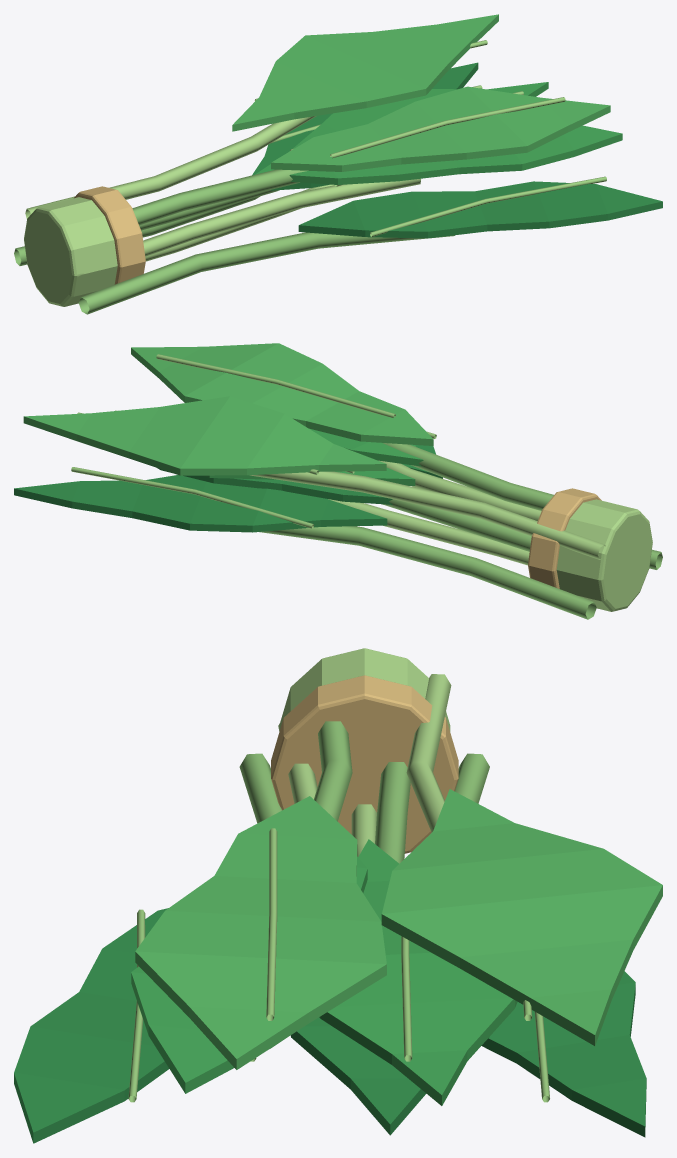
Rendered from spinach.glb.
3 views of the same model, one above another, from view 1: azimuth 30°, elevation 25°; view 2: azimuth 150°, elevation 25°; view 3: azimuth 270°, elevation 25° (orthographic). The views are drawn at different scales.
Parts seen in each view (by area): view 1: spinach_leaf_5, spinach_leaf_2, spinach_leaf_0, stem_bundle, spinach_leaf_1, spinach_stem_0, spinach_stem_1, spinach_stem_5, spinach_stem_2, bundle_tie, spinach_leaf_4, spinach_leaf_6 (+5 smaller); view 2: spinach_leaf_5, spinach_leaf_2, spinach_leaf_6, stem_bundle, spinach_stem_6, spinach_stem_5, spinach_stem_2, bundle_tie, spinach_stem_3, spinach_stem_4, spinach_leaf_3, spinach_stem_1 (+4 smaller); view 3: spinach_leaf_5, spinach_leaf_2, spinach_leaf_0, spinach_leaf_4, bundle_tie, spinach_leaf_6, spinach_leaf_3, spinach_leaf_1, stem_bundle, spinach_stem_5, spinach_stem_4, spinach_stem_2 (+8 smaller).
Part boxes in pixels (<box>): spinach_leaf_5: <box>232,14,498,131</box>; spinach_leaf_2: <box>271,86,610,171</box>; spinach_leaf_0: <box>298,181,662,238</box>; stem_bundle: <box>24,197,117,306</box>; spinach_leaf_1: <box>289,125,622,184</box>; spinach_stem_0: <box>78,232,454,314</box>; spinach_stem_1: <box>77,178,420,277</box>; spinach_stem_5: <box>25,116,316,218</box>; spinach_stem_2: <box>132,169,308,225</box>; bundle_tie: <box>74,186,145,284</box>; spinach_leaf_4: <box>255,82,548,174</box>; spinach_leaf_6: <box>252,62,478,175</box>; spinach_leaf_5: <box>23,396,386,475</box>; spinach_leaf_2: <box>131,343,433,445</box>; spinach_leaf_6: <box>14,475,387,532</box>; stem_bundle: <box>556,499,652,611</box>; spinach_stem_6: <box>259,526,596,619</box>; spinach_stem_5: <box>250,471,605,559</box>; spinach_stem_2: <box>383,443,553,510</box>; bundle_tie: <box>528,488,601,588</box>; spinach_stem_3: <box>328,499,529,565</box>; spinach_stem_4: <box>382,499,531,551</box>; spinach_leaf_3: <box>157,468,392,504</box>; spinach_stem_1: <box>378,460,541,520</box>; spinach_leaf_5: <box>381,789,662,1045</box>; spinach_leaf_2: <box>135,796,386,1069</box>; spinach_leaf_0: <box>14,908,169,1143</box>; spinach_leaf_4: <box>319,839,517,1105</box>; bundle_tie: <box>271,675,458,853</box>; spinach_leaf_6: <box>481,971,646,1137</box>; spinach_leaf_3: <box>290,1017,489,1135</box>; spinach_leaf_1: <box>131,856,367,1093</box>; stem_bundle: <box>279,648,450,731</box>; spinach_stem_5: <box>406,674,451,832</box>; spinach_stem_4: <box>375,762,410,863</box>; spinach_stem_2: <box>314,721,352,821</box>.
Size of the model in its own units: 0.4925 by 0.1103 by 0.3183.
